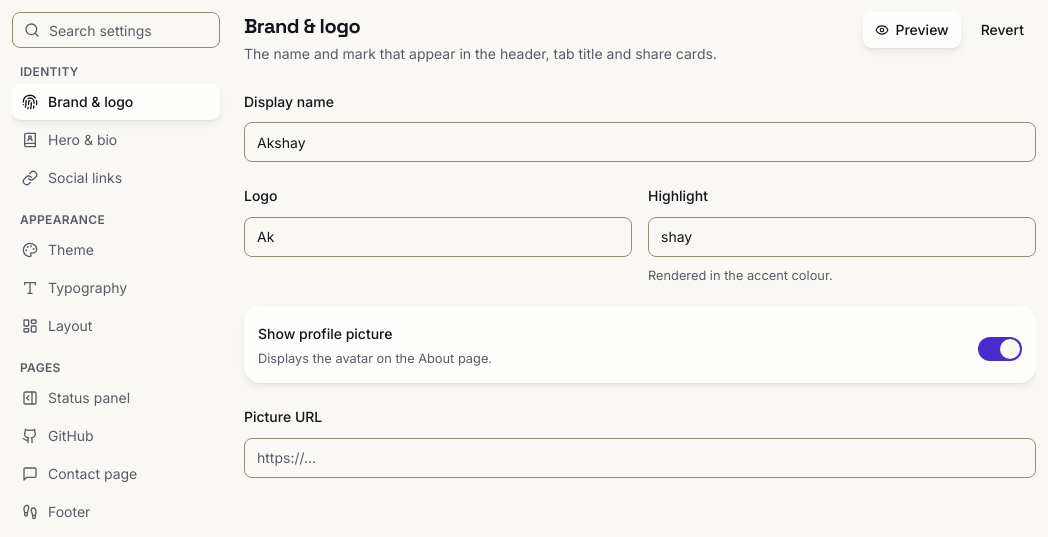
Scenario: SettingsNav search › filters the rail and finds a group by a field path
Expected: the field labelled "Display name" is shown, [244,122,1036,162]
Type "custom_theme_colors" into the field labelled "Search settings" at (116, 30), box [12,12,220,48]
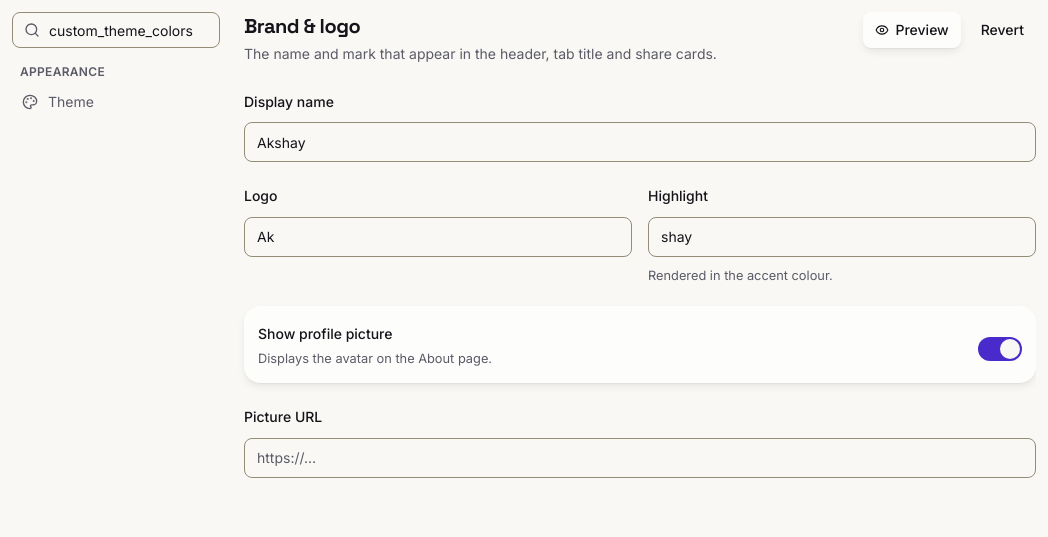
Expected: the button "Theme" is shown, [12,84,220,120]
Now no buttons "Footer" are shown
